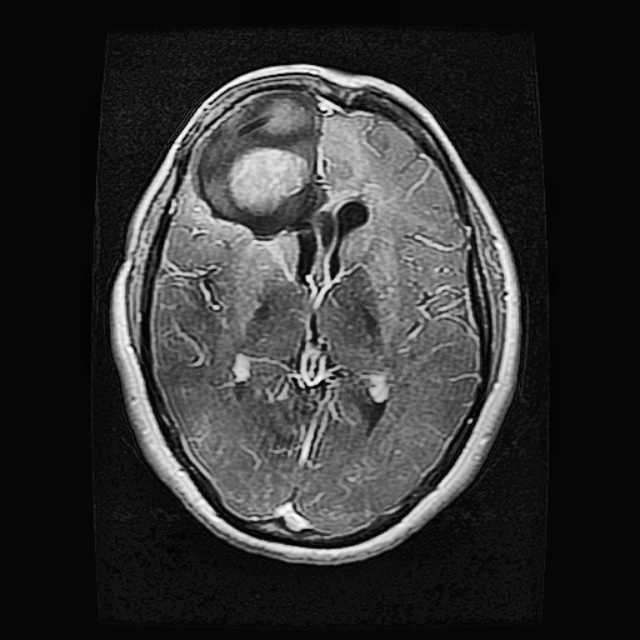Meningioma: (192, 92, 375, 290)
